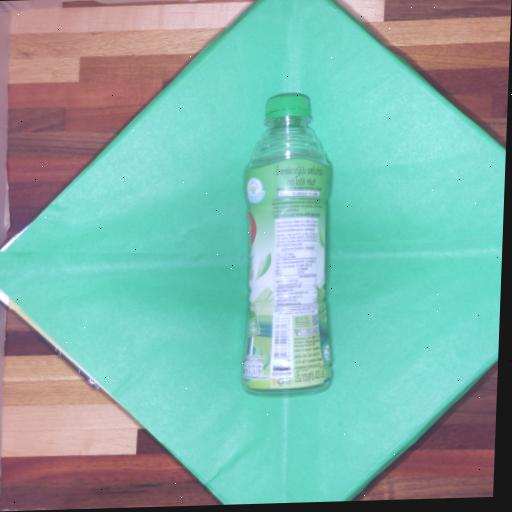bottle: (224, 76, 348, 409)
